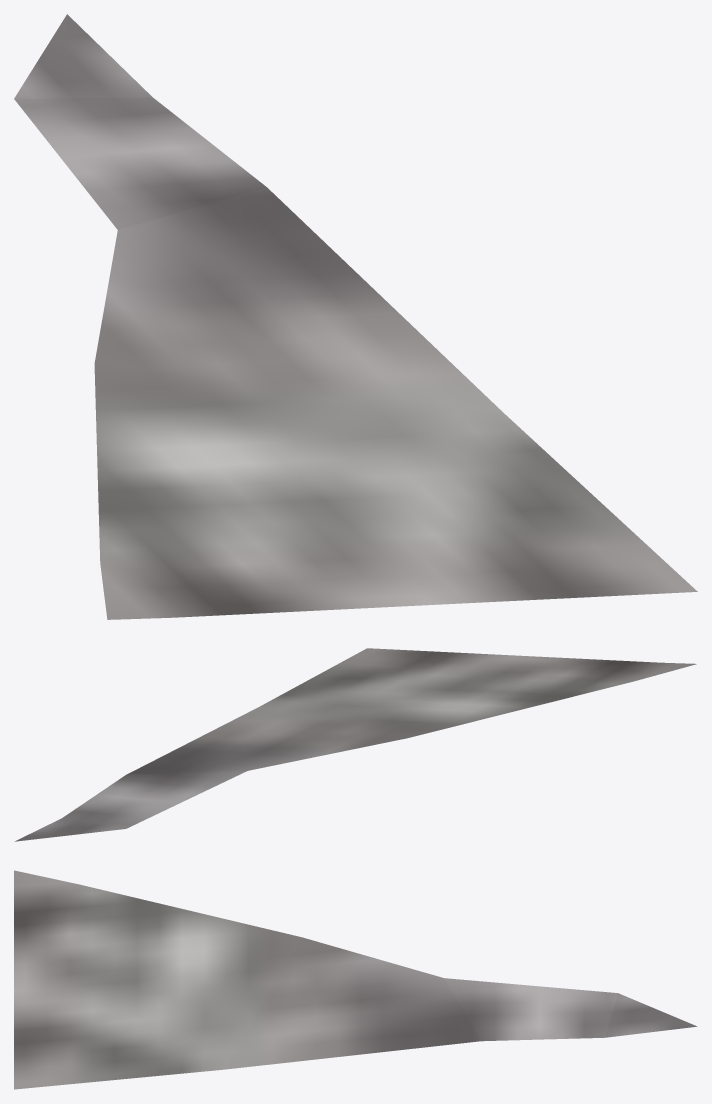
3 renders of one model, top to bottom at view 1: azimuth 30°, elevation 25°; view 2: azimuth 150°, elevation 25°; view 3: azimuth 270°, elevation 25°, orthographic. The views are drawn at different scales.
Size of the model in its own units: 0.0527 by 0.0099 by 0.0975.
1 material, 1 textured.
